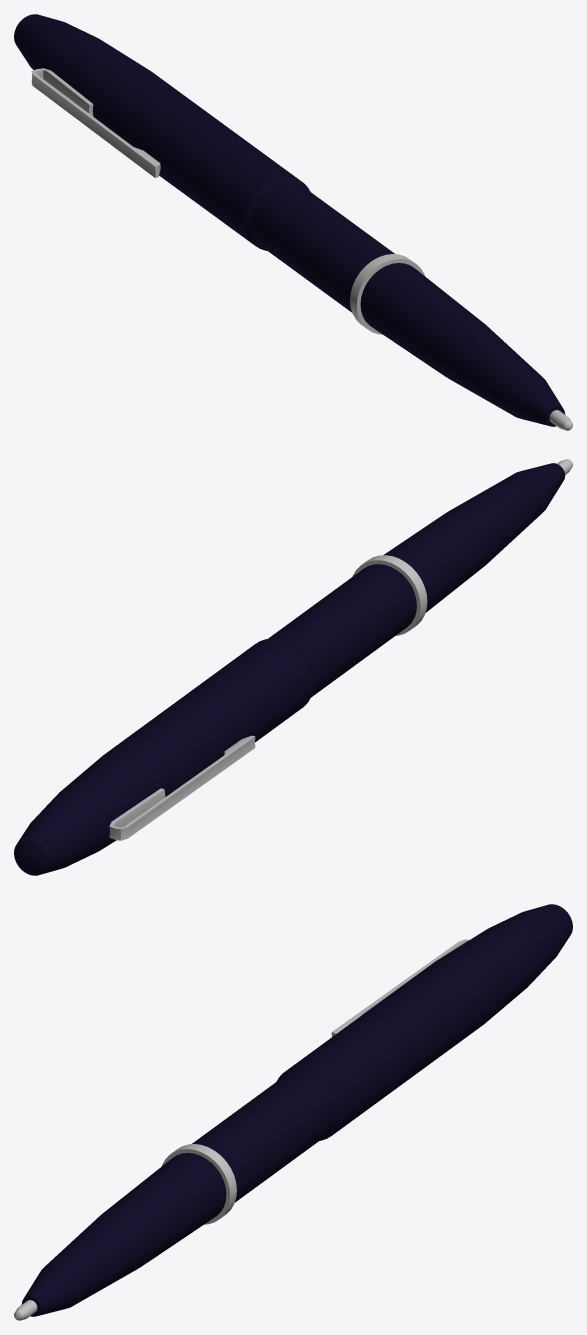
Rendered from Cursor.glb.
3 renders of one model, top to bottom at view 1: azimuth 30°, elevation 25°; view 2: azimuth 150°, elevation 25°; view 3: azimuth 330°, elevation 25°, orthographic.
Parts seen in each view (by area): view 1: Cylinder; view 2: Cylinder; view 3: Cylinder.
Part boxes in pixels (x1=…): Cylinder: x1=14, y1=14, x2=572, y2=430; Cylinder: x1=14, y1=459, x2=572, y2=875; Cylinder: x1=14, y1=904, x2=572, y2=1320.
Bounding box in the file's own units: 0.6013 × 0.4969 × 6.67.
